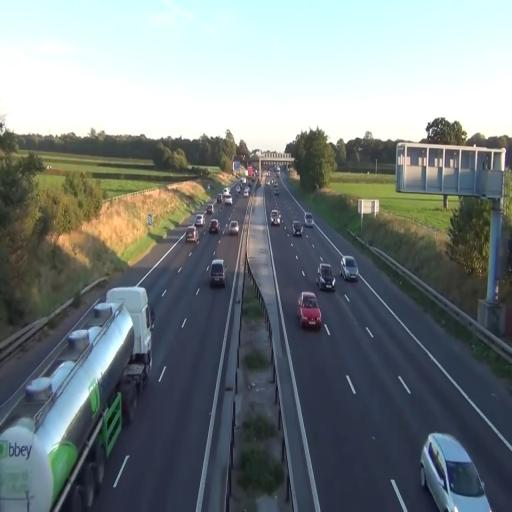vehicle: (419, 431, 492, 512), (298, 291, 322, 331), (317, 261, 335, 291), (208, 258, 226, 287), (340, 256, 359, 282), (226, 217, 240, 235), (270, 209, 282, 227), (208, 218, 220, 235), (187, 228, 198, 244), (292, 222, 303, 237)
